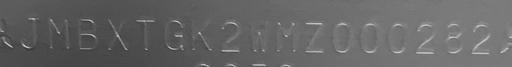letter: (133, 14, 159, 55), (44, 16, 74, 51), (186, 17, 216, 52), (272, 18, 302, 53), (412, 20, 440, 57), (105, 15, 131, 54), (75, 16, 101, 53), (246, 16, 272, 53), (218, 17, 244, 54), (302, 17, 326, 56), (16, 15, 42, 50), (162, 17, 188, 52), (329, 19, 355, 54), (383, 21, 409, 56), (441, 18, 465, 55), (356, 19, 380, 56), (470, 20, 492, 57)
